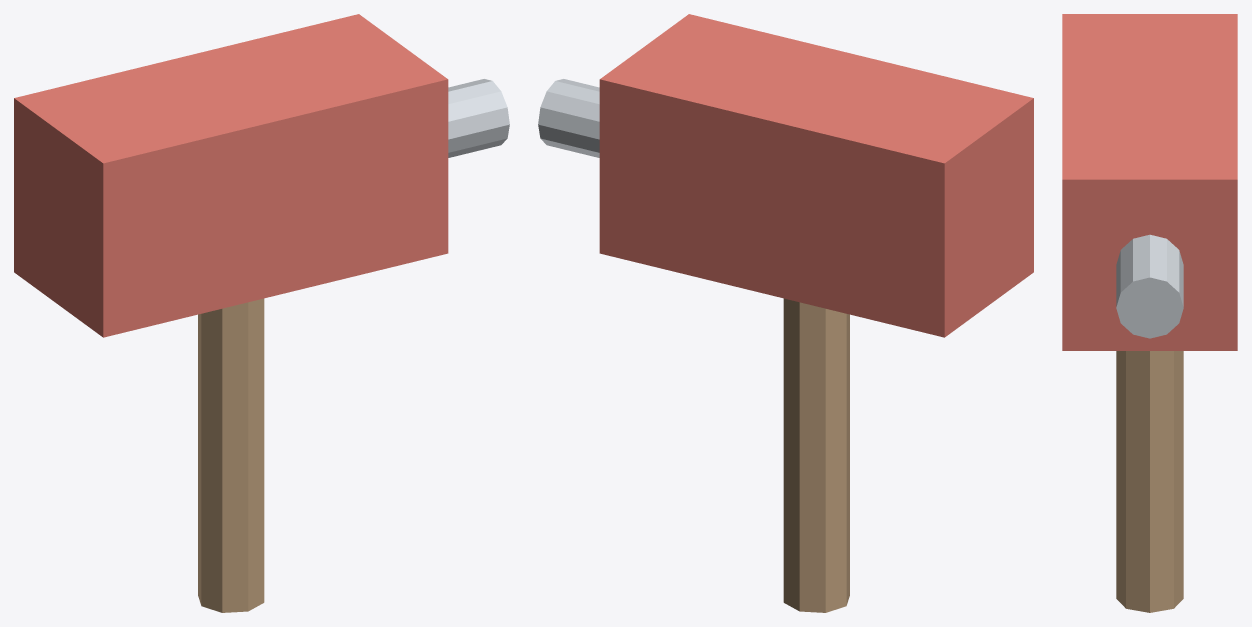
Rendered from mazo_3.glb.
3 views of the same model, side by side, from view 1: azimuth 30°, elevation 25°; view 2: azimuth 150°, elevation 25°; view 3: azimuth 270°, elevation 25° (orthographic).
Parts seen in each view (by area): view 1: cabeza, mango, piston; view 2: cabeza, mango, piston; view 3: cabeza, mango, piston.
Boxes of the visible parts, <box> form: cabeza: <box>14,14,448,337</box>; mango: <box>198,298,264,612</box>; piston: <box>448,79,509,157</box>; cabeza: <box>599,14,1033,337</box>; mango: <box>783,298,849,612</box>; piston: <box>538,79,599,157</box>; cabeza: <box>1062,14,1237,350</box>; mango: <box>1116,351,1183,612</box>; piston: <box>1116,234,1183,338</box>.
Size of the model in its own units: 0.8012 by 0.9 by 0.2854.
